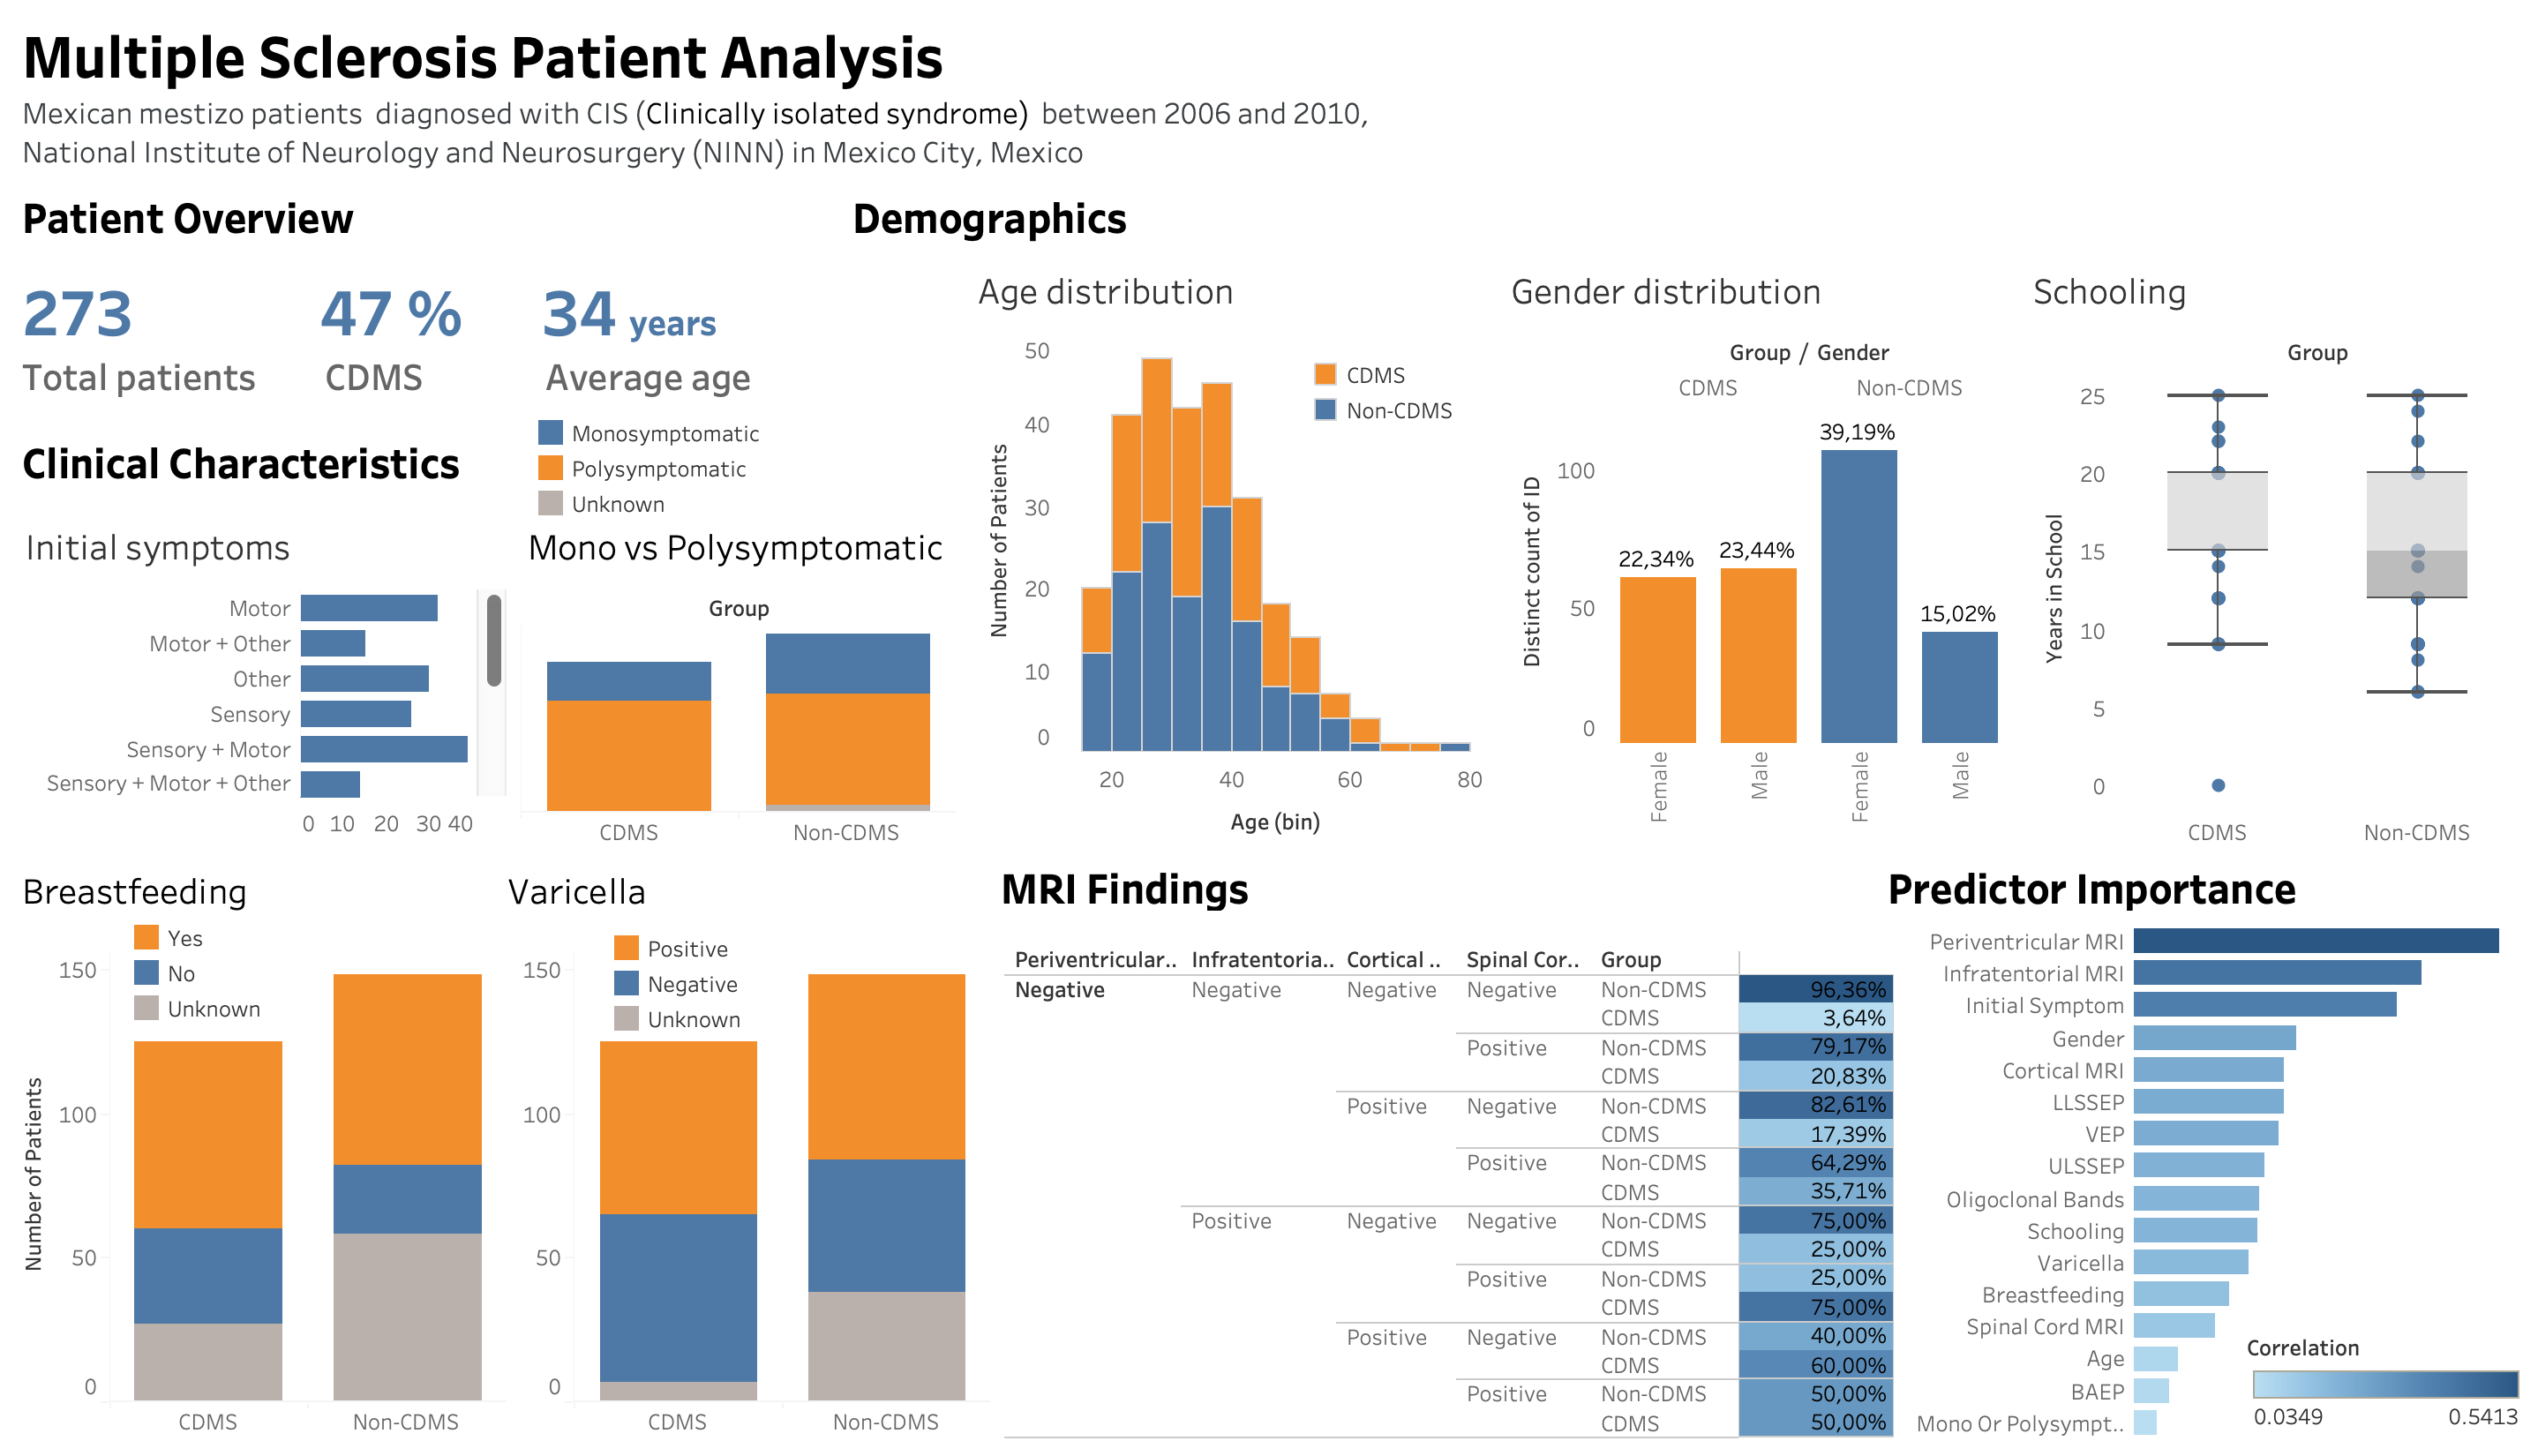

What the dashboard file says about the page in this screenshot:
{"tool":"tableau","page":{"name":"Dashboard","canvas":[1000,1000],"units":"permille","ordinal":0},"visuals":[{"type":"title","box":[6.3,10.4,987.4,127.6]},{"type":"text","box":[6.3,138,987.4,52.1]},{"type":"text","box":[6.3,190.1,374.2,110.3]},{"type":"worksheet","title":"Age dist","mark":"Automatic","rows":["Age"],"cols":["Age (bin)"],"box":[380.5,190.1,209.7,404.5]},{"type":"worksheet","title":"Gender","mark":"Automatic","rows":["ID"],"cols":["Group","Gender"],"box":[590.2,190.1,204.9,404.5]},{"type":"worksheet","title":"School","mark":"Circle","rows":["Years_in_School"],"cols":["Group"],"box":[795.1,190.1,198.6,404.5]},{"type":"legend","title":"Age dist","param":"[federated.1gb1rra1ck44sl12mtm0q0cj1h42].[none:Group:nk]","box":[516.1,247.4,110.3,75.5]},{"type":"legend","title":"mono polysympt","param":"[federated.1gb1rra1ck44sl12mtm0q0cj1h42].[none:Mono_or_Polysymptomatic:nk]","box":[211.2,286.5,110.3,101.6]},{"type":"text","box":[6.3,300.4,374.2,61.3]},{"type":"worksheet","title":"Symptoms","mark":"Automatic","rows":["Calculation_5864749586030593"],"cols":["ID"],"box":[6.3,361.7,197.6,232.9]},{"type":"worksheet","title":"mono polysympt","mark":"Automatic","rows":["ID"],"cols":["Group"],"box":[203.9,361.7,176.6,232.9]},{"type":"text","box":[6.3,594.6,987.4,41.7]},{"type":"legend","title":"Breastfeeding","param":"[federated.1gb1rra1ck44sl12mtm0q0cj1h42].[none:Breastfeeding:nk]","box":[52,631.5,110.3,101.6]},{"type":"worksheet","title":"Breastfeeding","mark":"Automatic","rows":["ID"],"cols":["Group"],"box":[6.3,636.4,197.4,353.2]},{"type":"worksheet","title":"Varicells","mark":"Automatic","rows":["ID"],"cols":["Group"],"box":[203.7,636.4,190.1,353.2]},{"type":"worksheet","title":"MRIs","mark":"Square","rows":["Periventricular_MRI","Infratentorial_MRI","Cortical_MRI","Spinal_Cord_MRI","Group"],"box":[393.8,636.4,355.4,353.2]},{"type":"worksheet","title":"Predictors","mark":"Automatic","box":[749.3,636.4,244.4,353.2]},{"type":"legend","title":"Varicells","param":"[federated.1gb1rra1ck44sl12mtm0q0cj1h42].[none:Varicella:nk]","box":[241.1,638,110.3,101.6]}]}

Visuals, with their boxes on the dashboard's canvas, which has no fixed pixel size, in thousandths of its width and height (x1, y1, x2, y2). These are canvas units, not pixel positions in the 2538x1456 screenshot, which may show the page scaled, cropped or inside an application window:
title: BBox(6, 10, 994, 138)
text: BBox(6, 138, 994, 190)
text: BBox(6, 190, 380, 300)
"Age dist" worksheet: BBox(380, 190, 590, 595)
"Gender" worksheet: BBox(590, 190, 795, 595)
"School" worksheet (Circle marks): BBox(795, 190, 994, 595)
"Age dist" legend: BBox(516, 247, 626, 323)
"mono polysympt" legend: BBox(211, 286, 322, 388)
text: BBox(6, 300, 380, 362)
"Symptoms" worksheet: BBox(6, 362, 204, 595)
"mono polysympt" worksheet: BBox(204, 362, 380, 595)
text: BBox(6, 595, 994, 636)
"Breastfeeding" legend: BBox(52, 632, 162, 733)
"Breastfeeding" worksheet: BBox(6, 636, 204, 990)
"Varicells" worksheet: BBox(204, 636, 394, 990)
"MRIs" worksheet (Square marks): BBox(394, 636, 749, 990)
"Predictors" worksheet: BBox(749, 636, 994, 990)
"Varicells" legend: BBox(241, 638, 351, 740)
